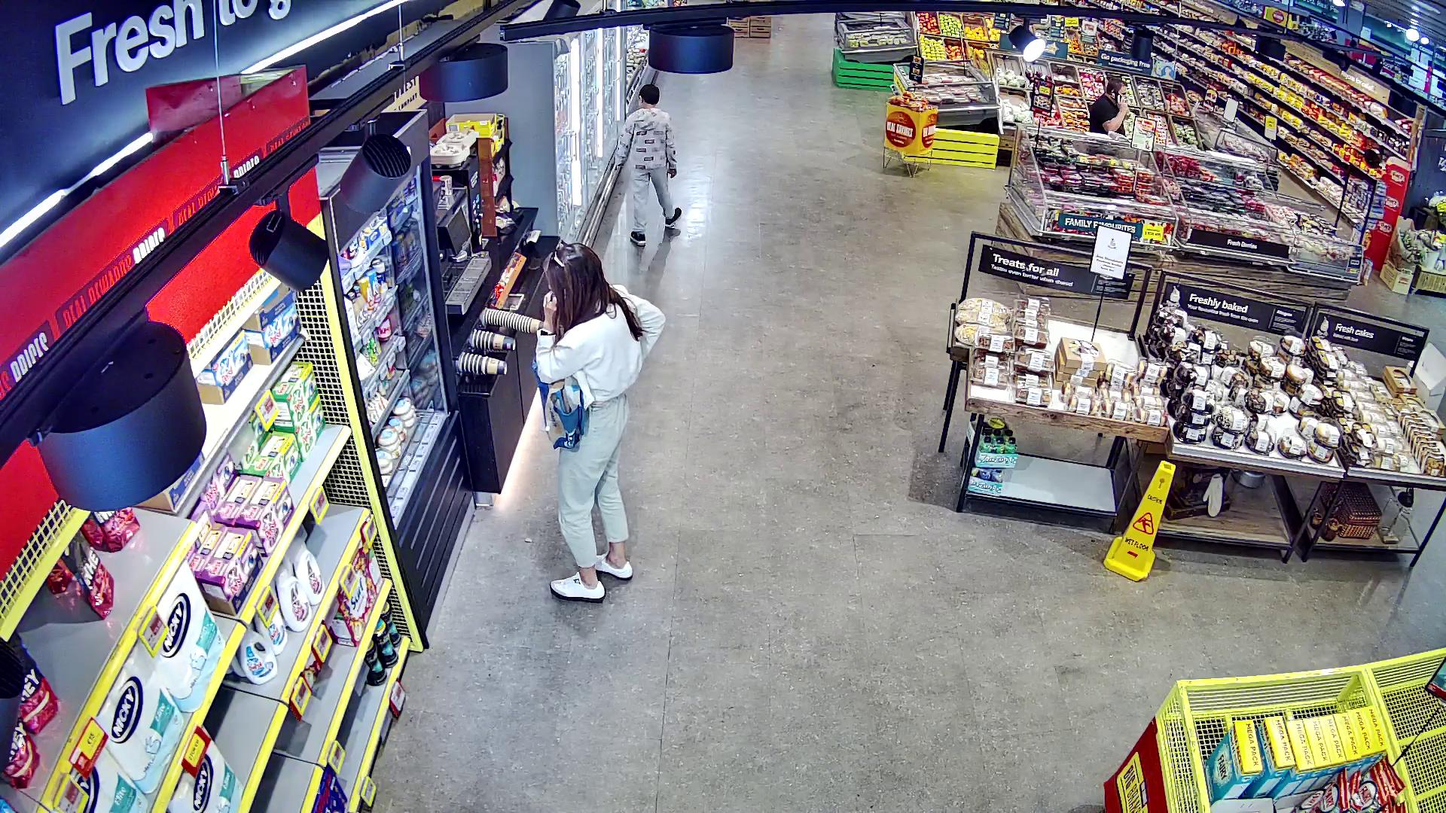empty-shopping-bags: (532, 360, 593, 451)
person: (536, 243, 666, 600)
person-with-empty-shopping-bag-s-: (532, 242, 666, 600)
